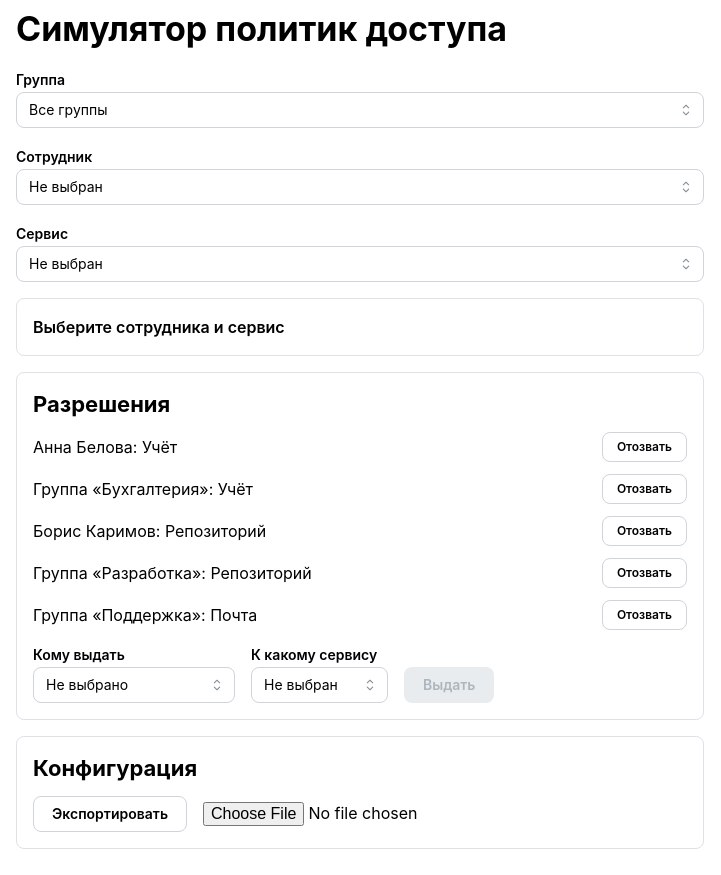
Test case: экран расчёта доступа › показывает доступ по прямому разрешению
Select "Борис Каримов" in the dropdown with test id "user-select" at (360, 187), box top-left (16, 169), bottom-right (704, 205)
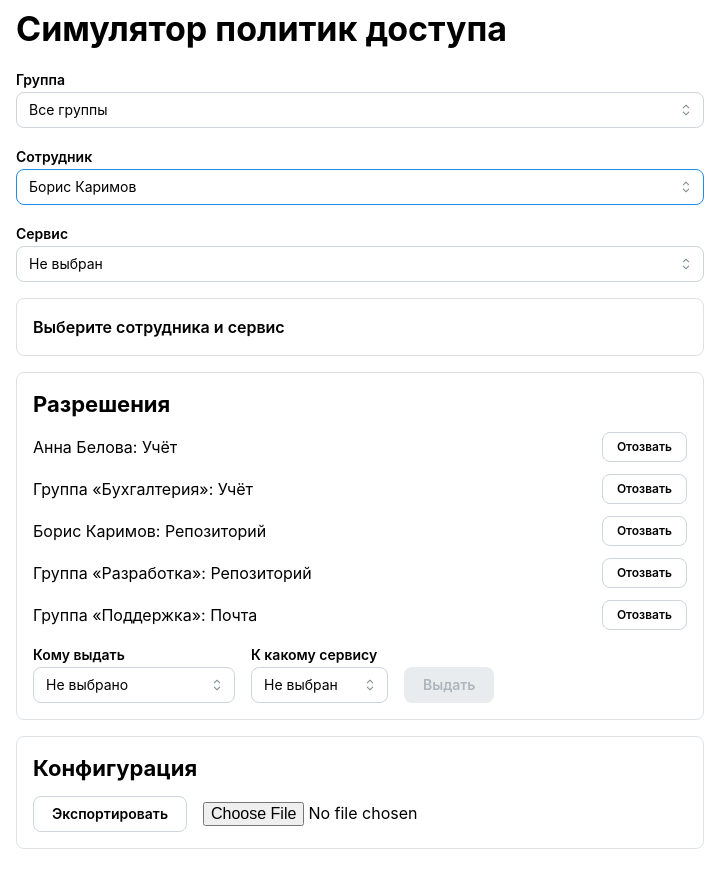
Select "Репозиторий" in the dropdown with test id "service-select" at (360, 264), box top-left (16, 246), bottom-right (704, 282)
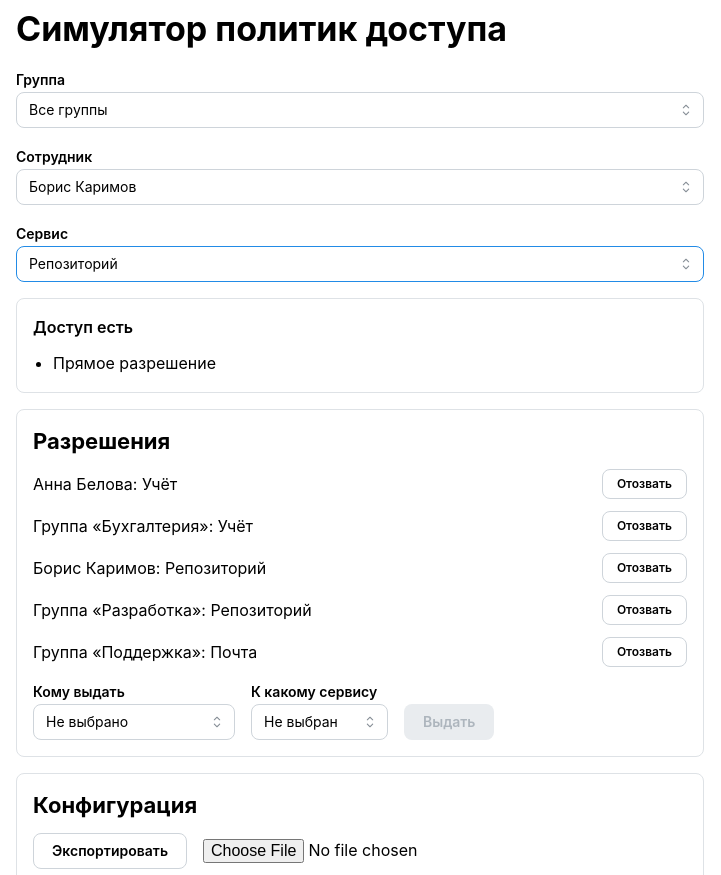
Result: the text with test id "access-result" reads "Доступ есть" at top-left (33, 317), bottom-right (133, 337)
Result: the list with test id "access-sources" reads "Прямое разрешение" at top-left (53, 353), bottom-right (216, 373)
